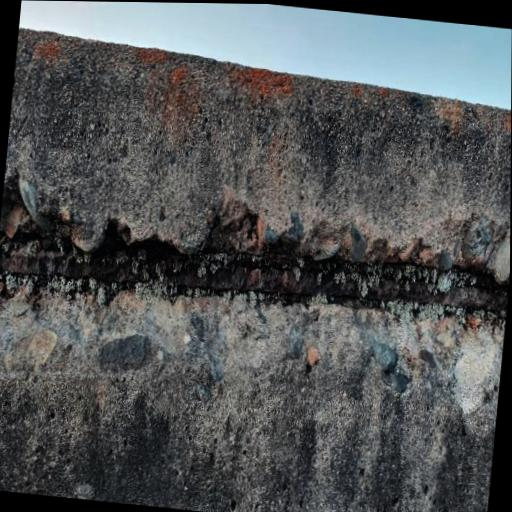exposed_rebar: (0, 241, 509, 312)
spalling: (0, 183, 509, 313)
